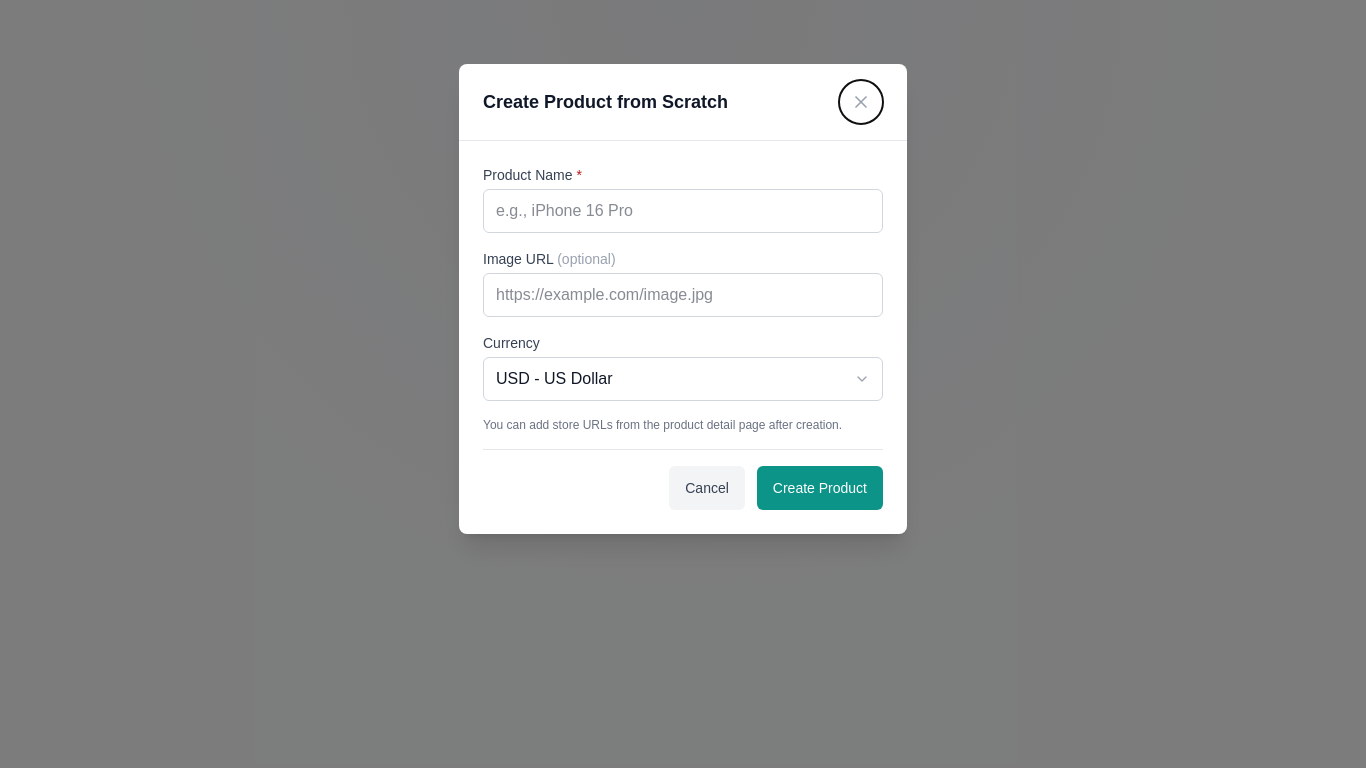
Test: CreateProductModal › validation › should show error when name is empty on submit
Click the button with test id "create-product-submit" at x=820, y=488, box [757,466,883,510]
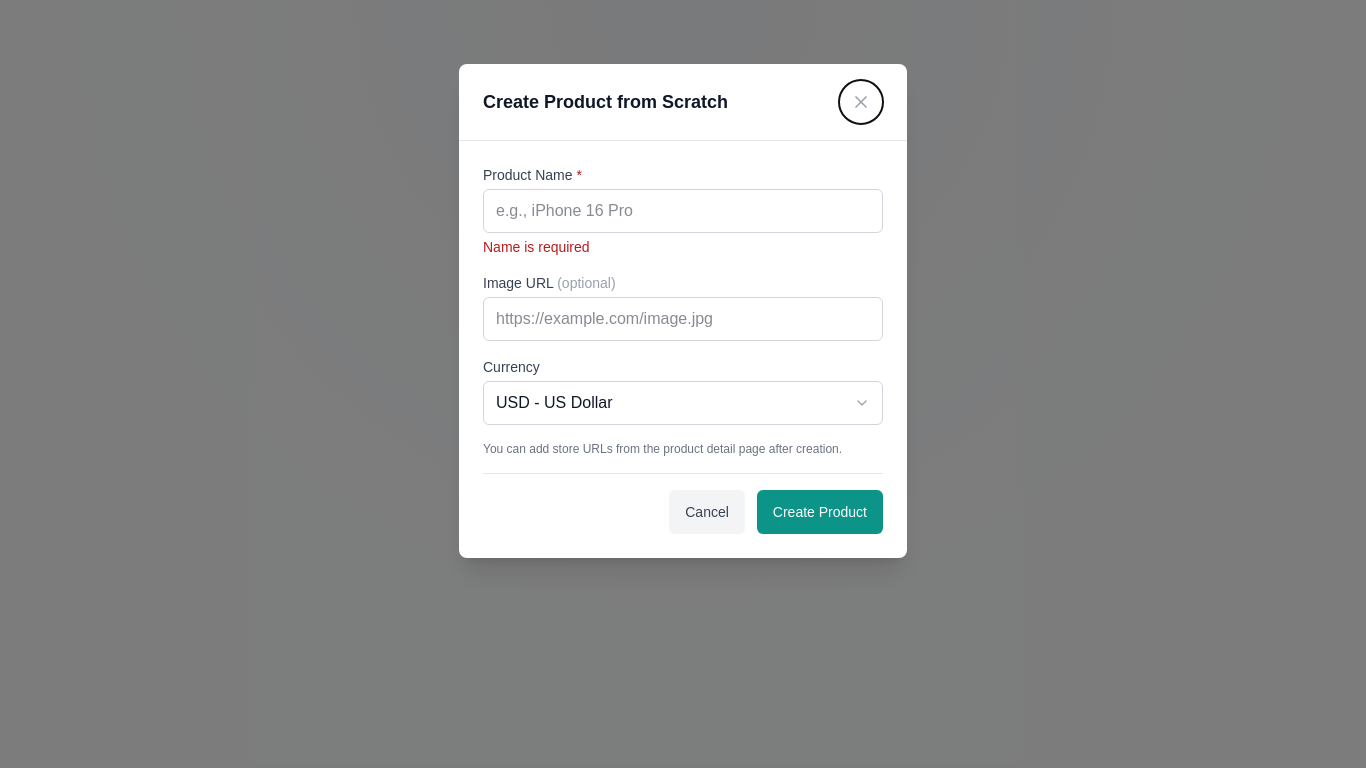
Now the message reads "Name is required", box [483,239,590,255]
